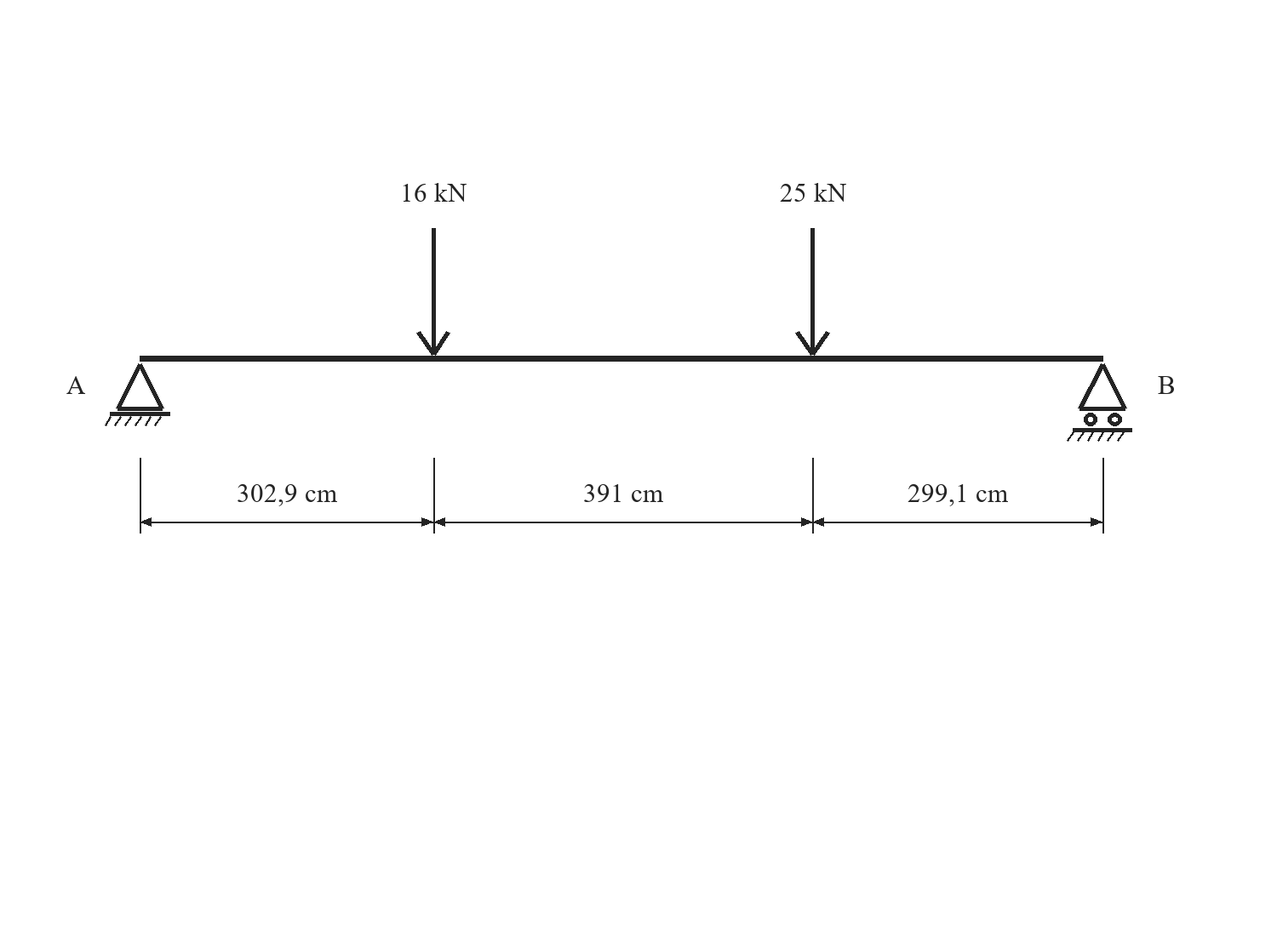pin_support: (105, 363, 170, 426)
point_load: (795, 228, 830, 356), (416, 228, 450, 356)
roller_support: (1067, 363, 1132, 442)
